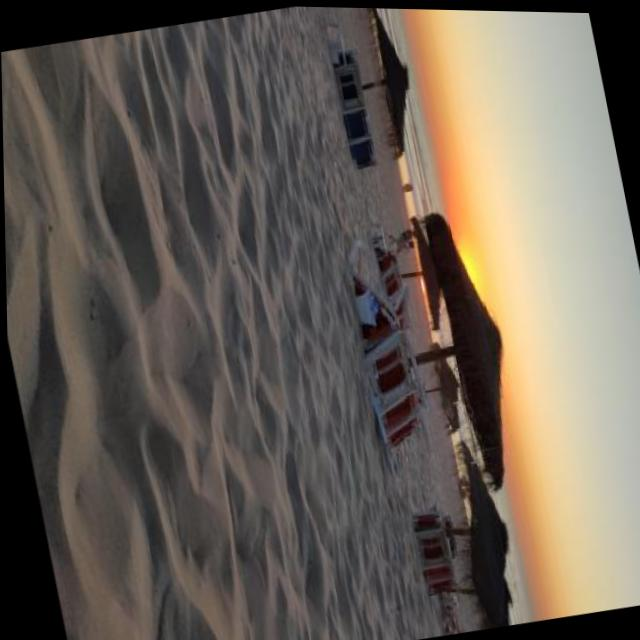plastic: (367, 302, 379, 319), (367, 294, 375, 309)
